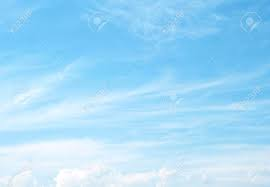sky: (1, 1, 268, 187)
